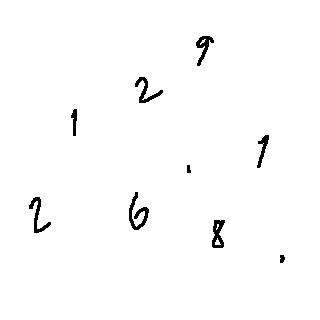.: (273, 253, 293, 266), (182, 161, 194, 178)
1: (251, 131, 281, 175), (63, 104, 88, 150)
2: (23, 188, 56, 243), (132, 72, 167, 107)
6: (118, 183, 155, 236)
8: (206, 212, 236, 258)
9: (185, 31, 222, 70)
